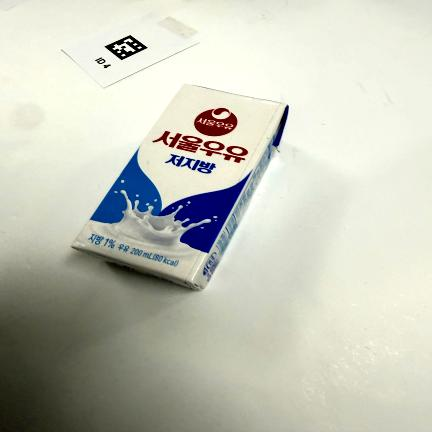milk_blue: (72, 84, 288, 290)
